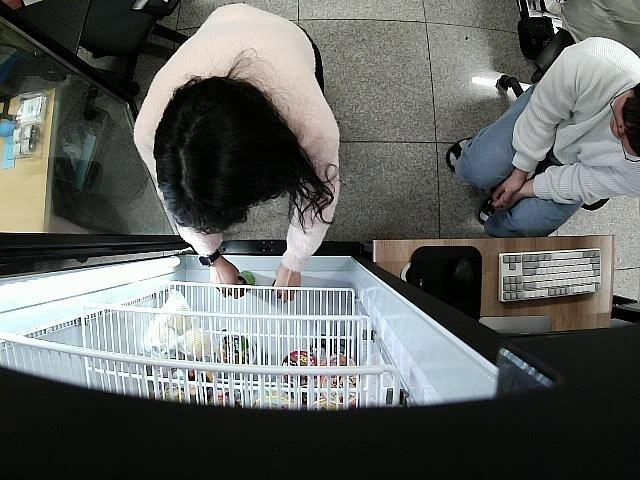19_17cha: (234, 268, 255, 299)
